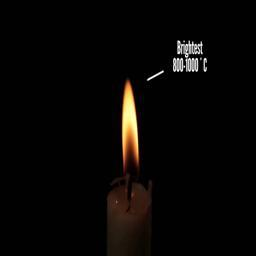fire: (121, 81, 140, 166)
